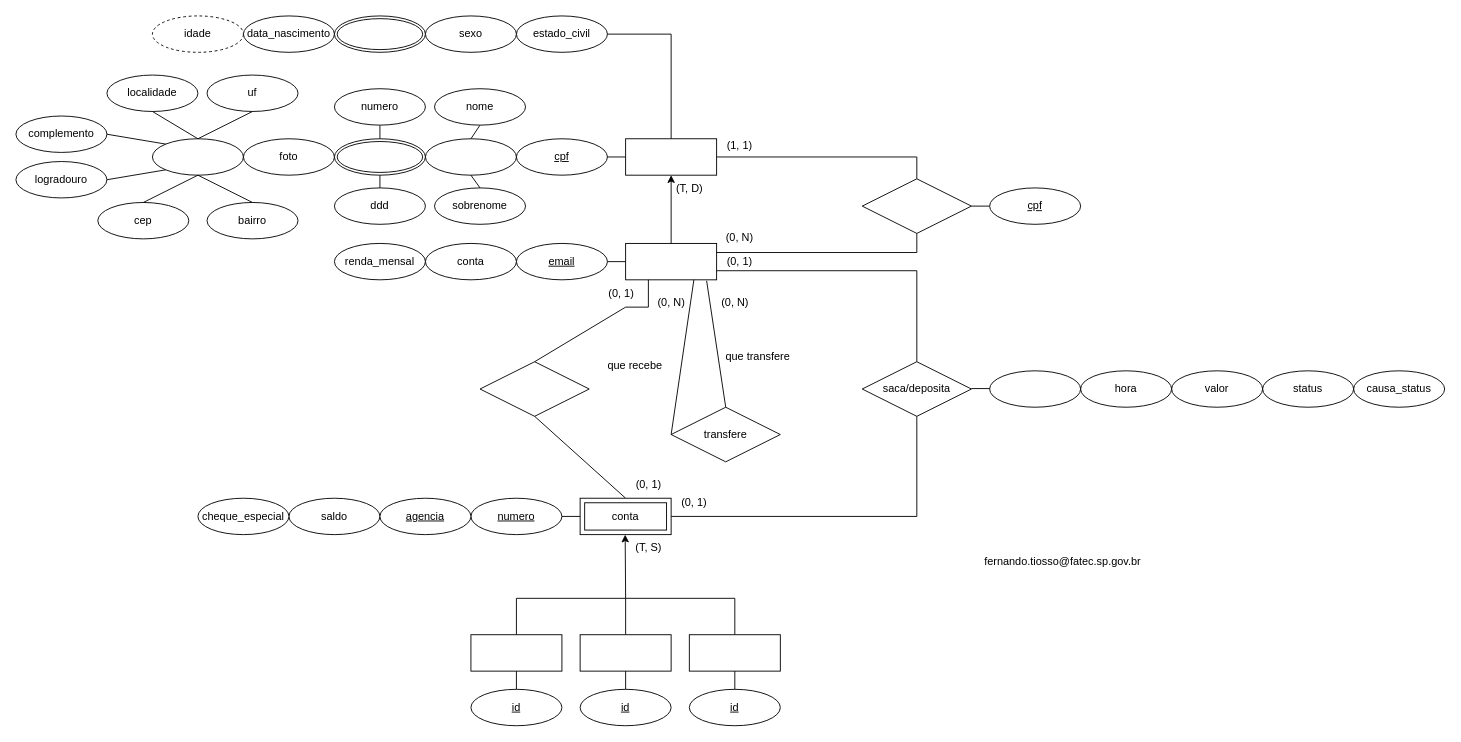
Some shapes in this 1461 by 742 pixel diagram are drawn without their labels. The shapes that lost their labels are listed below. From the top down, each one's centre as x and y in pixels, then its label:
At (379,33): "nacionalidades".
At (197,156): "endereco".
At (379,156): "telefones".
At (470,156): "nome_completo".
At (671,156): "pessoa".
At (916,205): "cadastra".
At (671,261): "usuario".
At (534,388): "tem".
At (1035,388): "data".
At (516,652): "salario".
At (625,652): "poupanca".
At (734,652): "corrente".
